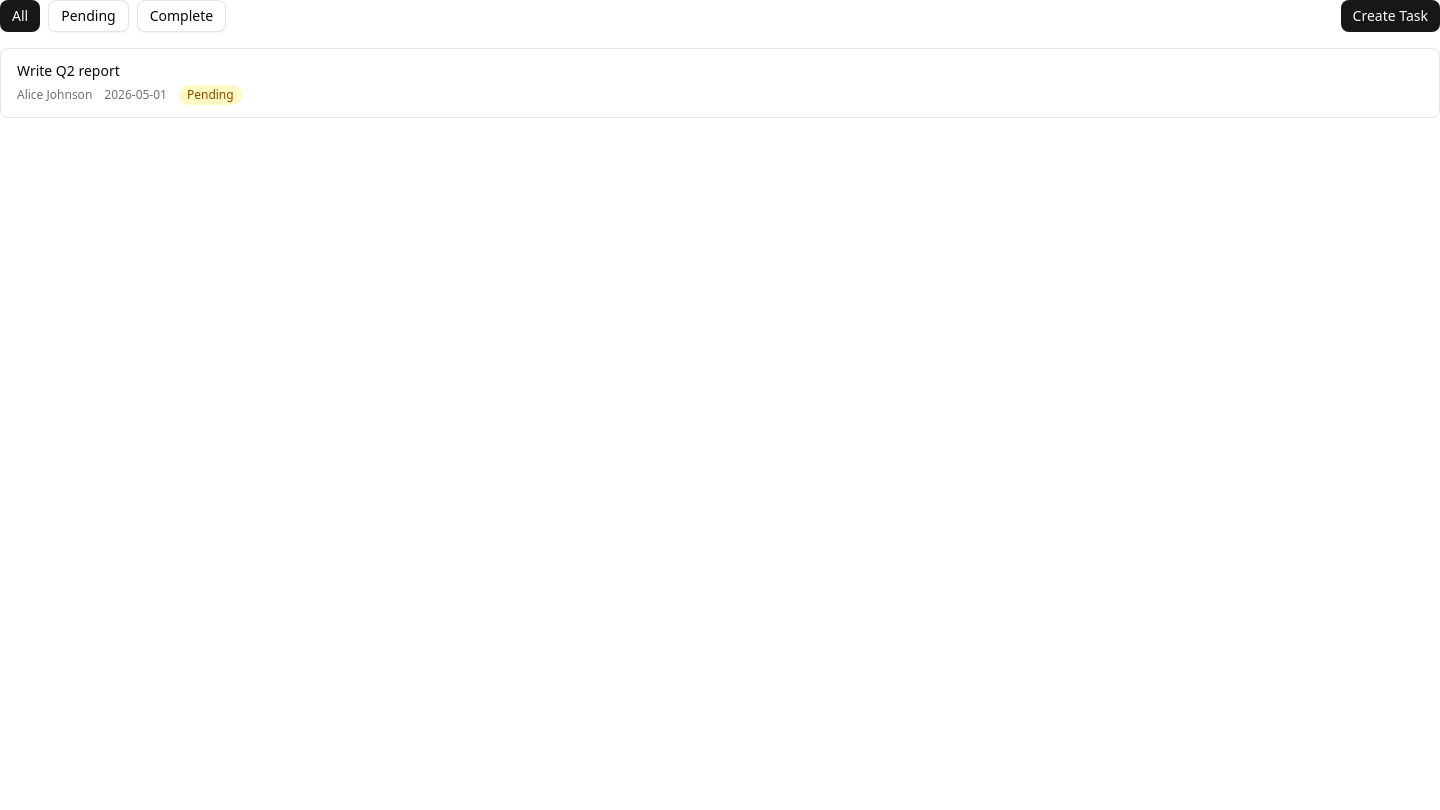
Test case: AC-1 & AC-15: Admin sees Edit and Delete controls in the modal › AC-1: admin sees an Edit button in the task detail modal
What coordinates should you click on to do the following:
click the text "Write Q2 report"
I would click on:
 (68, 70)
Its box is x1=17 y1=61 x2=120 y2=80.
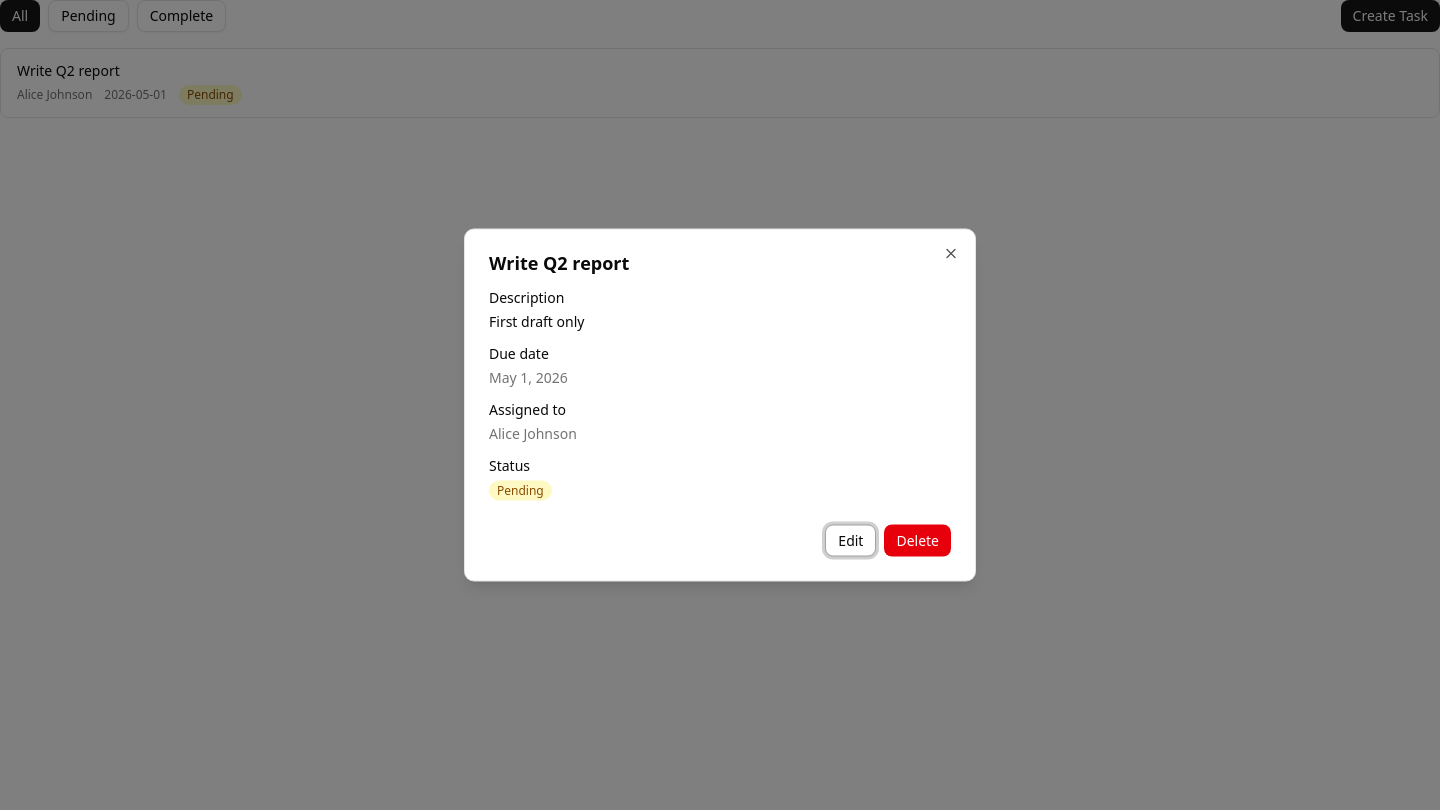
Expected: the dialog is shown, x1=464 y1=228 x2=976 y2=582
Expected: the button "Edit" is shown, x1=825 y1=524 x2=876 y2=556
